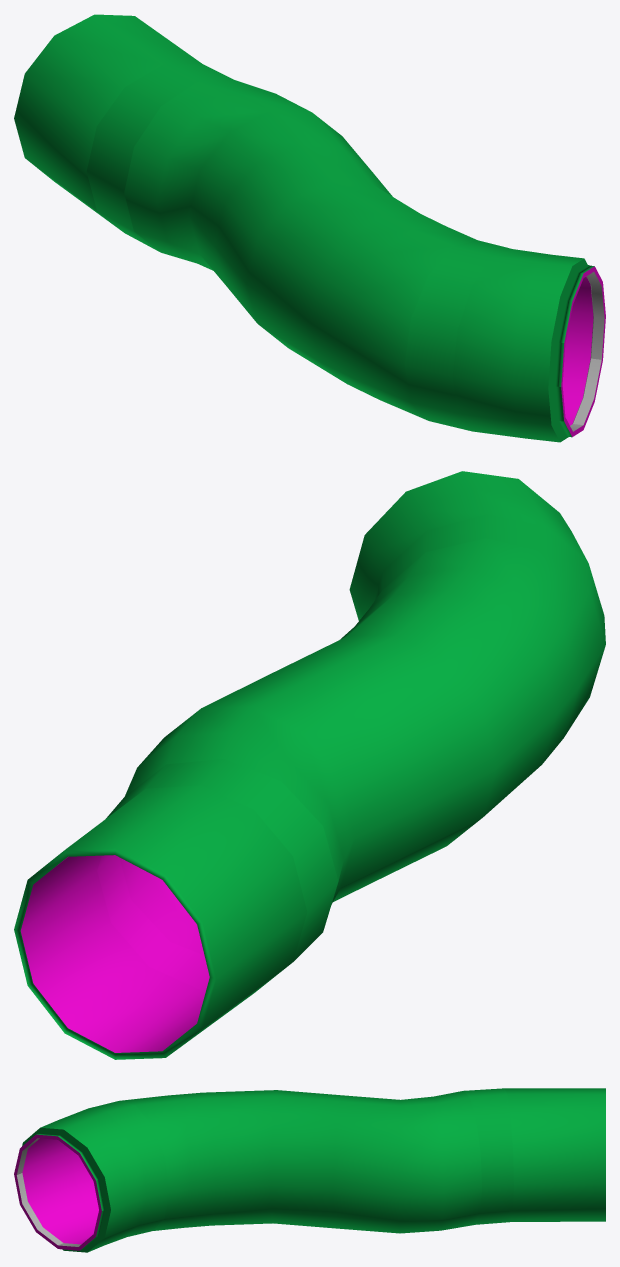
File: tunnel_curved_2_uv_low_double.fbx
3 views of the same model, one above another, from view 1: azimuth 30°, elevation 25°; view 2: azimuth 150°, elevation 25°; view 3: azimuth 270°, elevation 25° (orthographic). The views are drawn at different scales.
Visible parts, largest first — view 1: tunnel_curved_5_INNER1; view 2: tunnel_curved_5_INNER1; view 3: tunnel_curved_5_INNER1.
Boxes of the visible parts, <box> form: tunnel_curved_5_INNER1: <box>14,14,605,442</box>; tunnel_curved_5_INNER1: <box>14,471,605,1059</box>; tunnel_curved_5_INNER1: <box>14,1088,605,1252</box>.
Bounding box in the file's own units: 4799 × 3207 × 14199.
